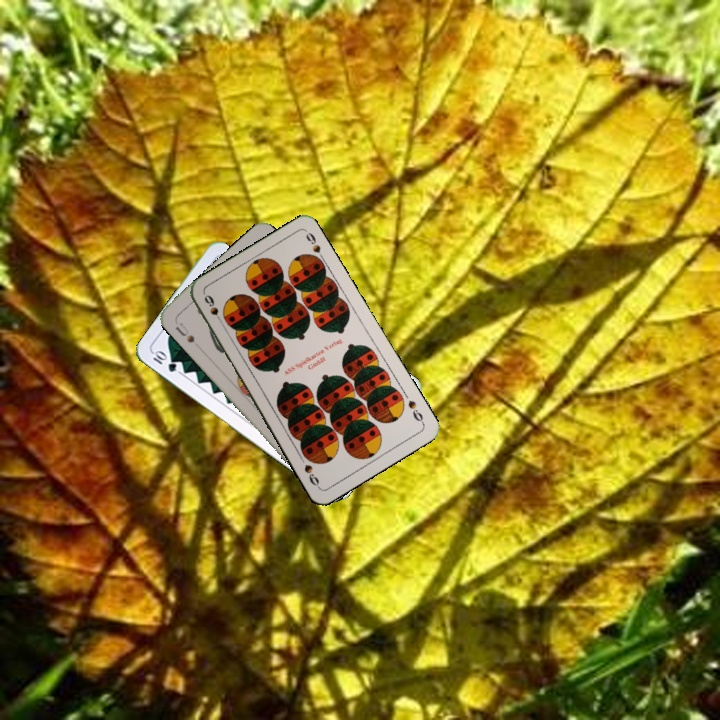G10: (148, 347, 179, 375)
S9: (200, 290, 226, 328), (404, 396, 427, 427)
SU: (171, 317, 197, 345)
